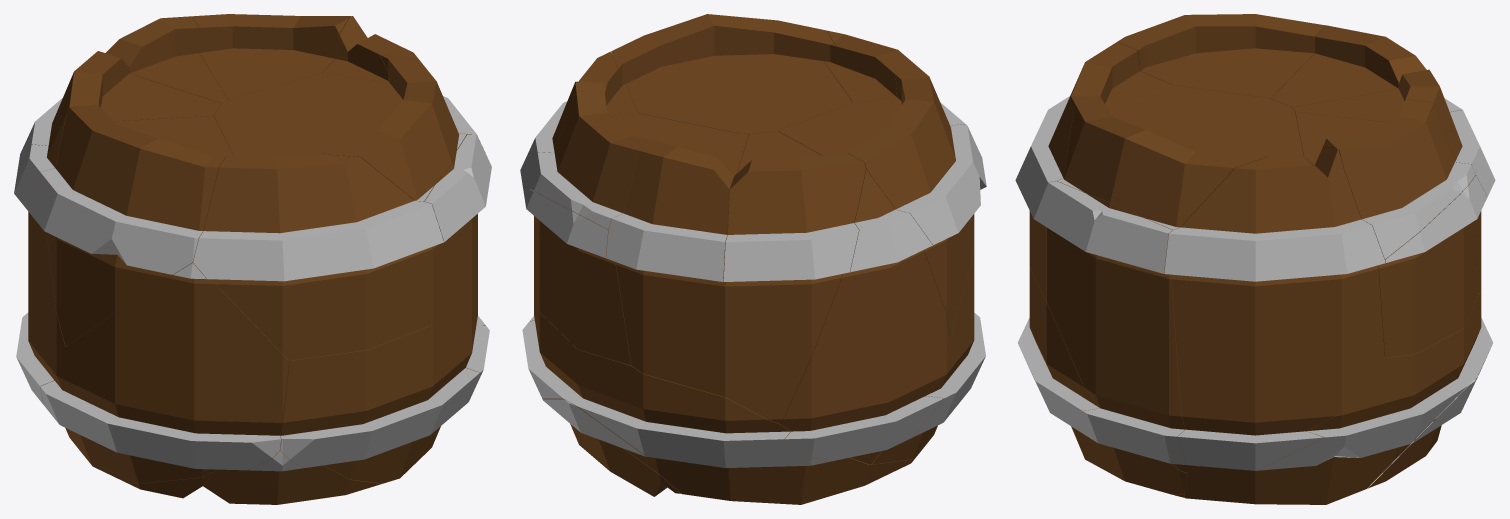
The model's file is LowPolyKegShattered3.glb.
3 renders of one model, left to right at view 1: azimuth 30°, elevation 25°; view 2: azimuth 150°, elevation 25°; view 3: azimuth 270°, elevation 25°, orthographic. The views are drawn at different scales.
Visible parts, largest first — view 1: Cylinder.001_cell.014, Cylinder.001_cell.009, Cylinder.001_cell.011, Cylinder.001_cell.012, Cylinder.001_cell.001, Cylinder.001_cell, Cylinder.001_cell.007, Cylinder.001_cell.002, Cylinder.001_cell.003, Cylinder.001_cell.006, Cylinder.001_cell.004, Cylinder.001_cell.010; view 2: Cylinder.001_cell.002, Cylinder.001_cell.003, Cylinder.001_cell.005, Cylinder.001_cell.004, Cylinder.001_cell.001, Cylinder.001_cell.011, Cylinder.001_cell.007, Cylinder.001_cell.013, Cylinder.001_cell.009, Cylinder.001_cell.014, Cylinder.001_cell.008, Cylinder.001_cell.010 (+1 smaller); view 3: Cylinder.001_cell.010, Cylinder.001_cell, Cylinder.001_cell.001, Cylinder.001_cell.005, Cylinder.001_cell.007, Cylinder.001_cell.011, Cylinder.001_cell.013, Cylinder.001_cell.012, Cylinder.001_cell.014, Cylinder.001_cell.002, Cylinder.001_cell.004, Cylinder.001_cell.008.
Part boxes in pixels (left/top/right/bottom): Cylinder.001_cell.014: left=193, top=153, right=443, bottom=360; Cylinder.001_cell.009: left=40, top=263, right=289, bottom=483; Cylinder.001_cell.011: left=31, top=105, right=233, bottom=346; Cylinder.001_cell.012: left=280, top=325, right=480, bottom=483; Cylinder.001_cell.001: left=214, top=55, right=466, bottom=201; Cylinder.001_cell: left=424, top=134, right=491, bottom=374; Cylinder.001_cell.007: left=192, top=14, right=350, bottom=99; Cylinder.001_cell.002: left=17, top=51, right=221, bottom=169; Cylinder.001_cell.003: left=14, top=114, right=67, bottom=404; Cylinder.001_cell.006: left=65, top=428, right=381, bottom=504; Cylinder.001_cell.004: left=105, top=16, right=228, bottom=103; Cylinder.001_cell.010: left=322, top=16, right=485, bottom=325; Cylinder.001_cell.002: left=723, top=131, right=865, bottom=423; Cylinder.001_cell.003: left=780, top=169, right=950, bottom=464; Cylinder.001_cell.005: left=522, top=293, right=870, bottom=504; Cylinder.001_cell.004: left=606, top=133, right=748, bottom=396; Cylinder.001_cell.001: left=611, top=14, right=852, bottom=134; Cylinder.001_cell.011: left=778, top=71, right=986, bottom=335; Cylinder.001_cell.007: left=525, top=82, right=738, bottom=229; Cylinder.001_cell.013: left=523, top=186, right=631, bottom=365; Cylinder.001_cell.009: left=871, top=147, right=985, bottom=464; Cylinder.001_cell.014: left=824, top=30, right=965, bottom=125; Cylinder.001_cell.008: left=542, top=399, right=680, bottom=496; Cylinder.001_cell.010: left=520, top=51, right=637, bottom=321; Cylinder.001_cell.010: left=1164, top=147, right=1385, bottom=470; Cylinder.001_cell: left=1034, top=181, right=1196, bottom=472; Cylinder.001_cell.001: left=1057, top=85, right=1303, bottom=229; Cylinder.001_cell.005: left=1184, top=292, right=1493, bottom=504; Cylinder.001_cell.007: left=1295, top=99, right=1475, bottom=259; Cylinder.001_cell.011: left=1117, top=14, right=1325, bottom=98; Cylinder.001_cell.013: left=1377, top=175, right=1487, bottom=357; Cylinder.001_cell.012: left=1017, top=267, right=1187, bottom=494; Cylinder.001_cell.014: left=1015, top=41, right=1172, bottom=302; Cylinder.001_cell.002: left=1271, top=25, right=1462, bottom=111; Cylinder.001_cell.004: left=1292, top=69, right=1495, bottom=293; Cylinder.001_cell.008: left=1368, top=376, right=1477, bottom=488.
Size of the model in its own units: 260 by 212 by 260.
